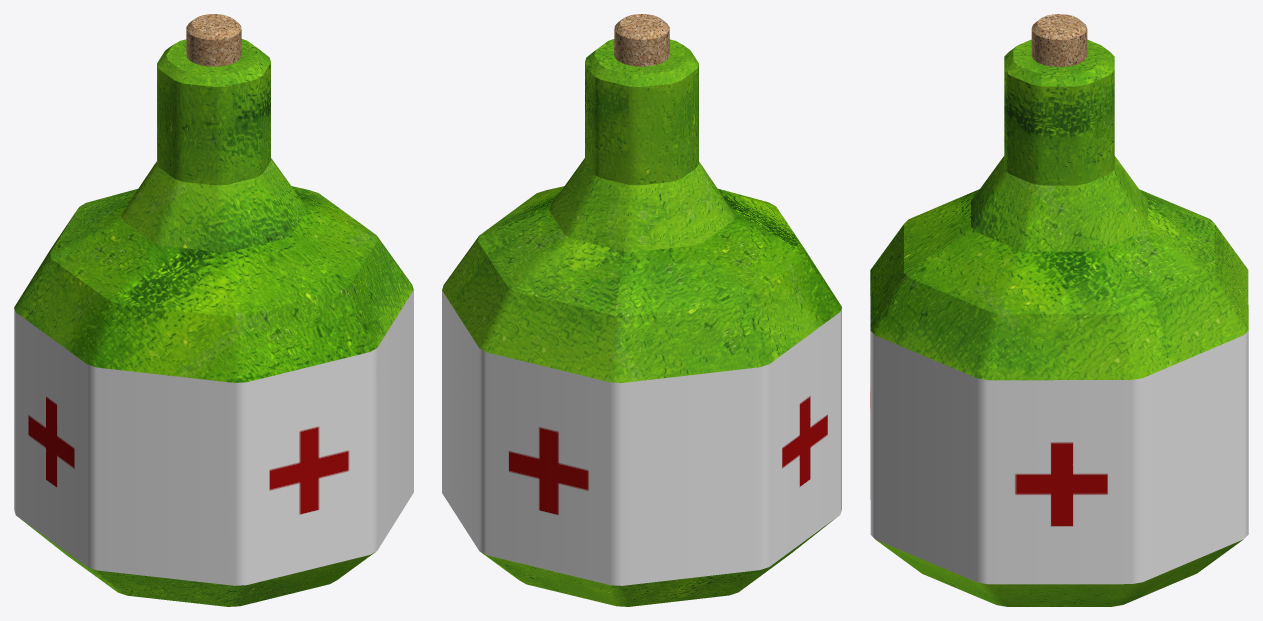
File: boccetta.fbx
3 renders of one model, left to right at view 1: azimuth 30°, elevation 25°; view 2: azimuth 150°, elevation 25°; view 3: azimuth 270°, elevation 25°, orthographic.
Parts seen in each view (by area): view 1: Boccetta_Mesh; view 2: Boccetta_Mesh; view 3: Boccetta_Mesh.
Part boxes in pixels (box(x1,y1,x2,y2)): Boccetta_Mesh: box(14, 14, 413, 606); Boccetta_Mesh: box(442, 14, 841, 606); Boccetta_Mesh: box(870, 14, 1248, 606).
Bounding box in the file's own units: 5.83 × 8.89 × 5.83.
Materials: 1 (1 with a texture image).
